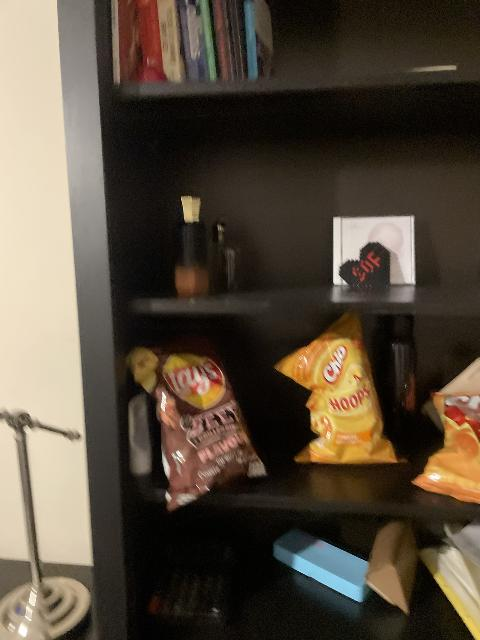Chio Cascaval 125g: (411, 390, 480, 505)
Chio Hula Hoops Cheese 70g: (277, 311, 393, 463)
Lays Beef Grilled Ribs 125g: (128, 341, 271, 512)
